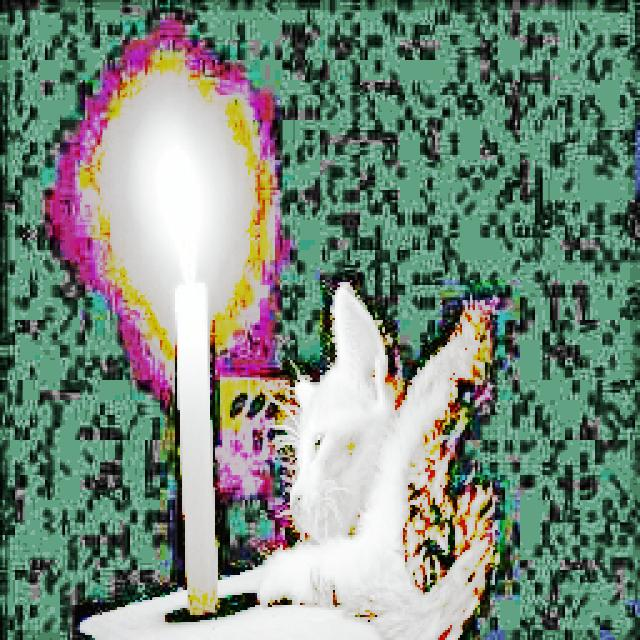cat: (238, 240, 580, 640)
